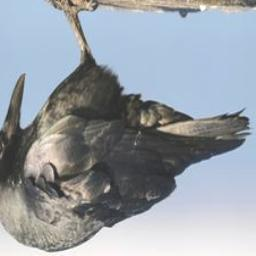Crow: (0, 0, 253, 255)
